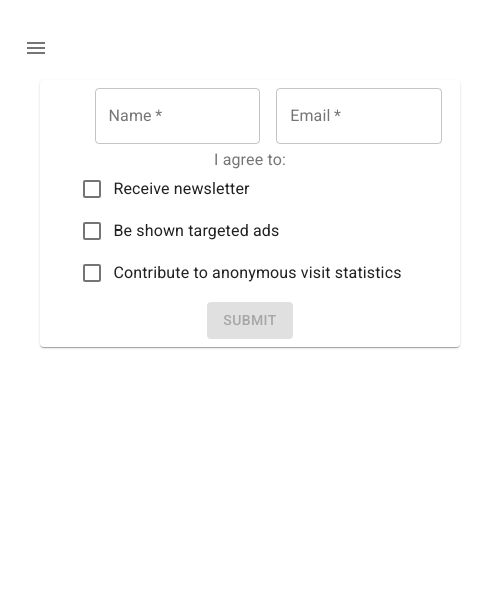
responsive-menu.js › menu should open from menu button
The width and height of the screenshot is (500, 600).
Click the button with class "cypress-menu-button": (36, 48) [12,24,60,72]
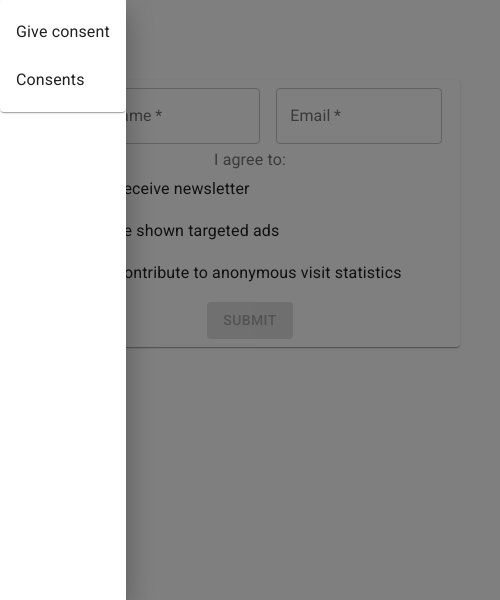
Expected: the navigation bar with class "cypress-menu" is shown, [0,0,126,112]
